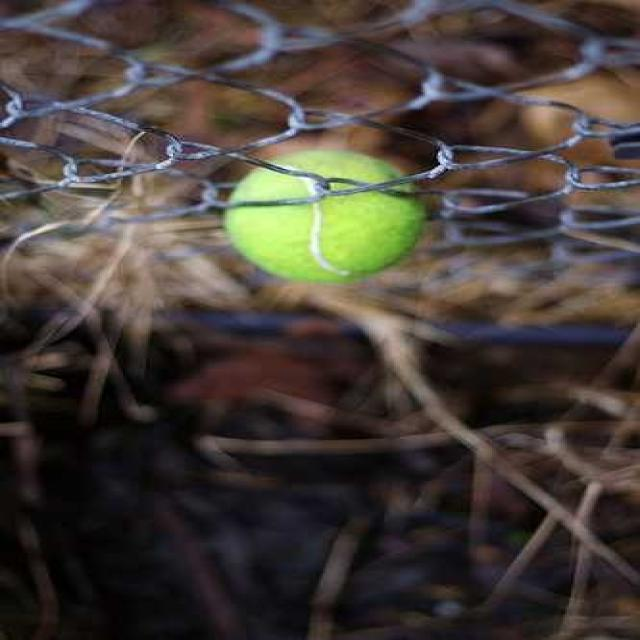Tennis_Ball: (230, 152, 428, 290)
